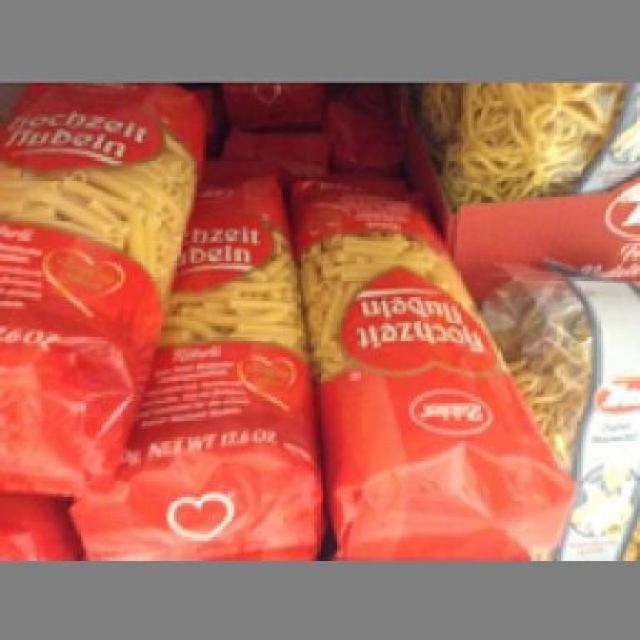Pasta: (288, 172, 578, 554), (79, 159, 312, 552), (0, 80, 203, 486)
